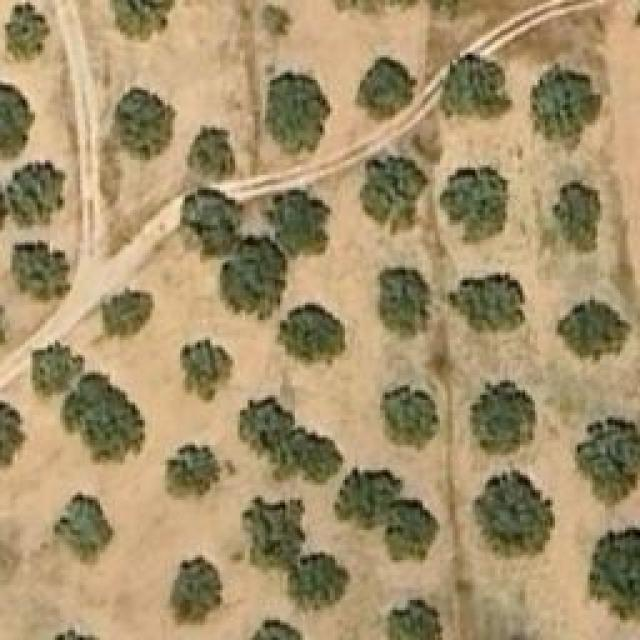Tree: (473, 472, 556, 560), (65, 375, 150, 460), (530, 63, 603, 156), (470, 375, 538, 463), (440, 165, 515, 243), (575, 417, 640, 505), (220, 238, 288, 321), (358, 157, 428, 235), (0, 160, 68, 238), (267, 185, 335, 263), (263, 70, 328, 148), (273, 303, 346, 368), (165, 443, 240, 506), (450, 273, 525, 336), (590, 528, 640, 621), (113, 88, 176, 161), (558, 300, 631, 363), (440, 55, 510, 120), (238, 497, 303, 565), (380, 383, 438, 453), (378, 265, 431, 340), (55, 492, 113, 560), (178, 190, 241, 252), (10, 240, 70, 303), (290, 550, 350, 613), (382, 498, 440, 563), (180, 337, 235, 405), (553, 180, 603, 253), (355, 58, 415, 118), (280, 430, 343, 485), (170, 557, 220, 625), (338, 468, 401, 521), (187, 125, 235, 185), (0, 78, 35, 158), (235, 397, 293, 445), (110, 0, 175, 42), (0, 393, 28, 486), (5, 3, 48, 58), (105, 290, 155, 335), (388, 600, 443, 640), (33, 345, 76, 393), (248, 620, 303, 640)
